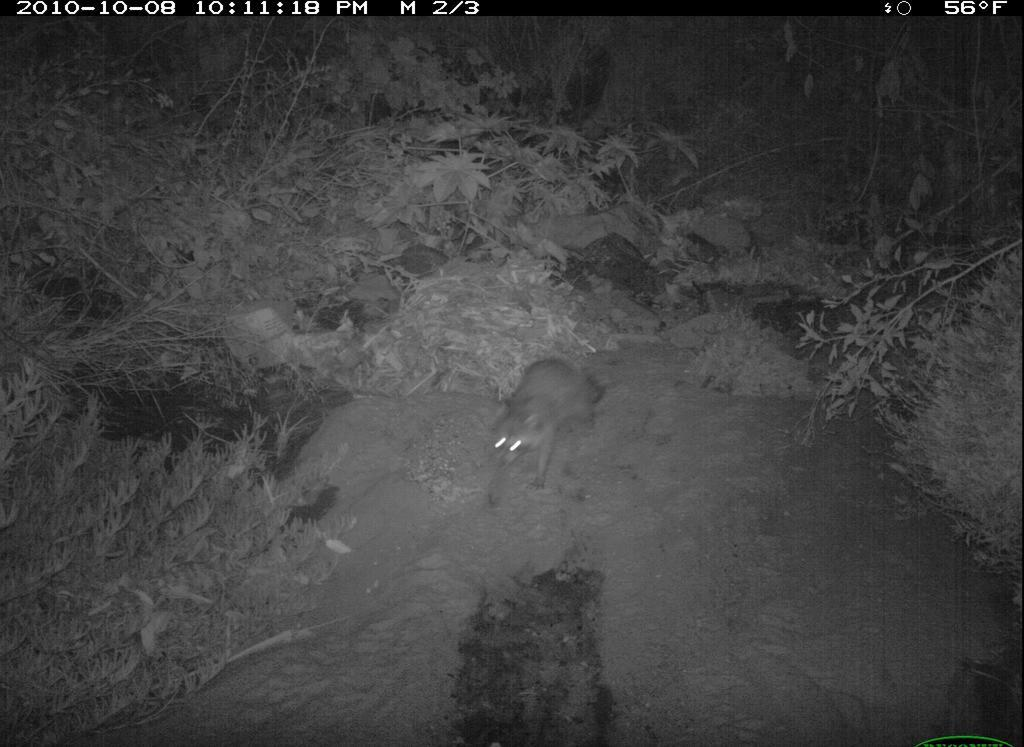raccoon: (474, 353, 612, 516)
